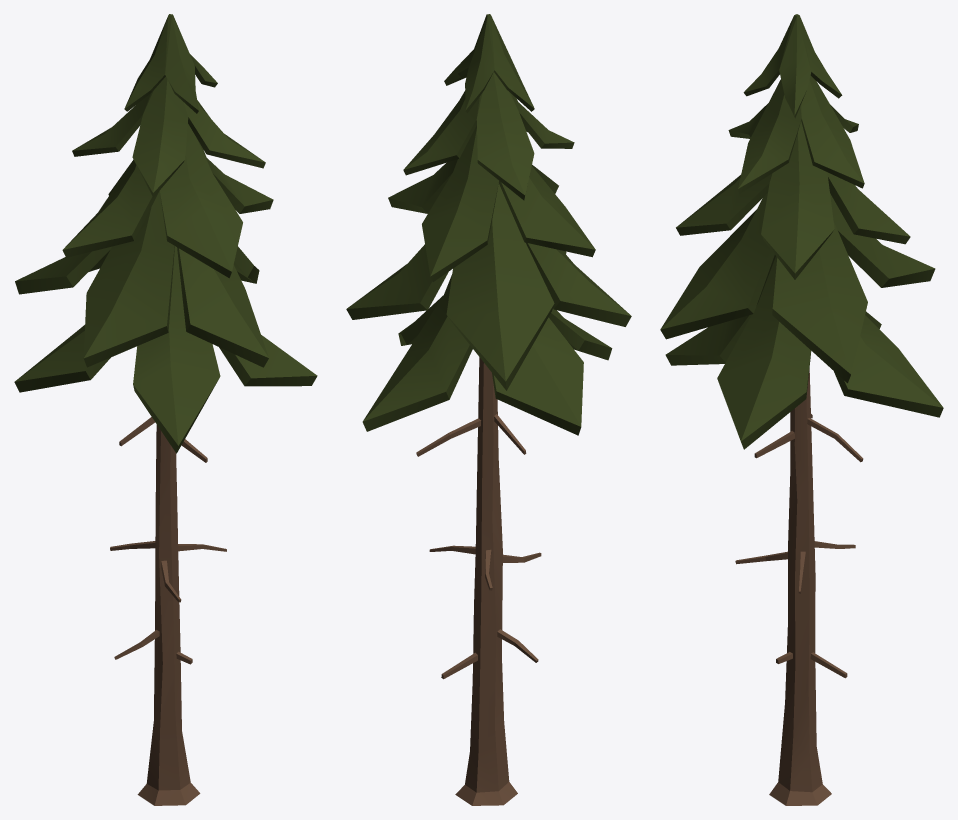
File: FirC.fbx
3 renders of one model, left to right at view 1: azimuth 30°, elevation 25°; view 2: azimuth 150°, elevation 25°; view 3: azimuth 270°, elevation 25°, orthographic.
Parts seen in each view (by area): view 1: FirC; view 2: FirC; view 3: FirC.
Boxes of the visible parts, left/top/right/bottom form: FirC: left=14, top=14, right=317, bottom=805; FirC: left=346, top=14, right=631, bottom=805; FirC: left=660, top=14, right=943, bottom=805.
Size of the model in its own units: 877 by 2688 by 887.
